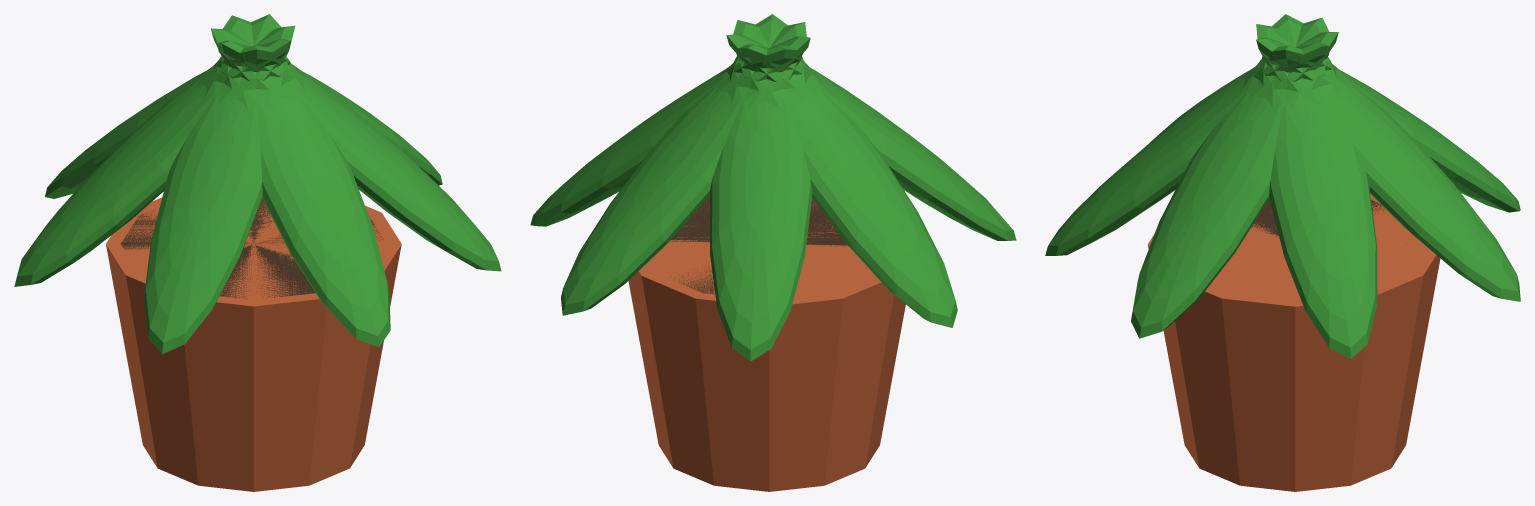
File: potted_plant_0.glb
3 renders of one model, left to right at view 1: azimuth 30°, elevation 25°; view 2: azimuth 150°, elevation 25°; view 3: azimuth 270°, elevation 25°, orthographic.
Parts seen in each view (by area): view 1: frond_plant_leaf (×7), pot_pot_terracotta, soil_pot_soil; view 2: frond_plant_leaf (×7), pot_pot_terracotta, soil_pot_soil; view 3: frond_plant_leaf (×7), pot_pot_terracotta, soil_pot_soil.
Boxes of the visible parts, left/top/right/bottom form: frond_plant_leaf (×7): left=14, top=14, right=501, bottom=354; pot_pot_terracotta: left=106, top=197, right=401, bottom=491; soil_pot_soil: left=121, top=198, right=383, bottom=298; frond_plant_leaf (×7): left=530, top=14, right=1016, bottom=361; pot_pot_terracotta: left=628, top=198, right=905, bottom=491; soil_pot_soil: left=670, top=196, right=848, bottom=294; frond_plant_leaf (×7): left=1045, top=14, right=1520, bottom=358; pot_pot_terracotta: left=1147, top=194, right=1440, bottom=491; soil_pot_soil: left=1252, top=199, right=1407, bottom=244.
Bounding box in the file's own units: 0.6607 × 0.6175 × 0.6442.
